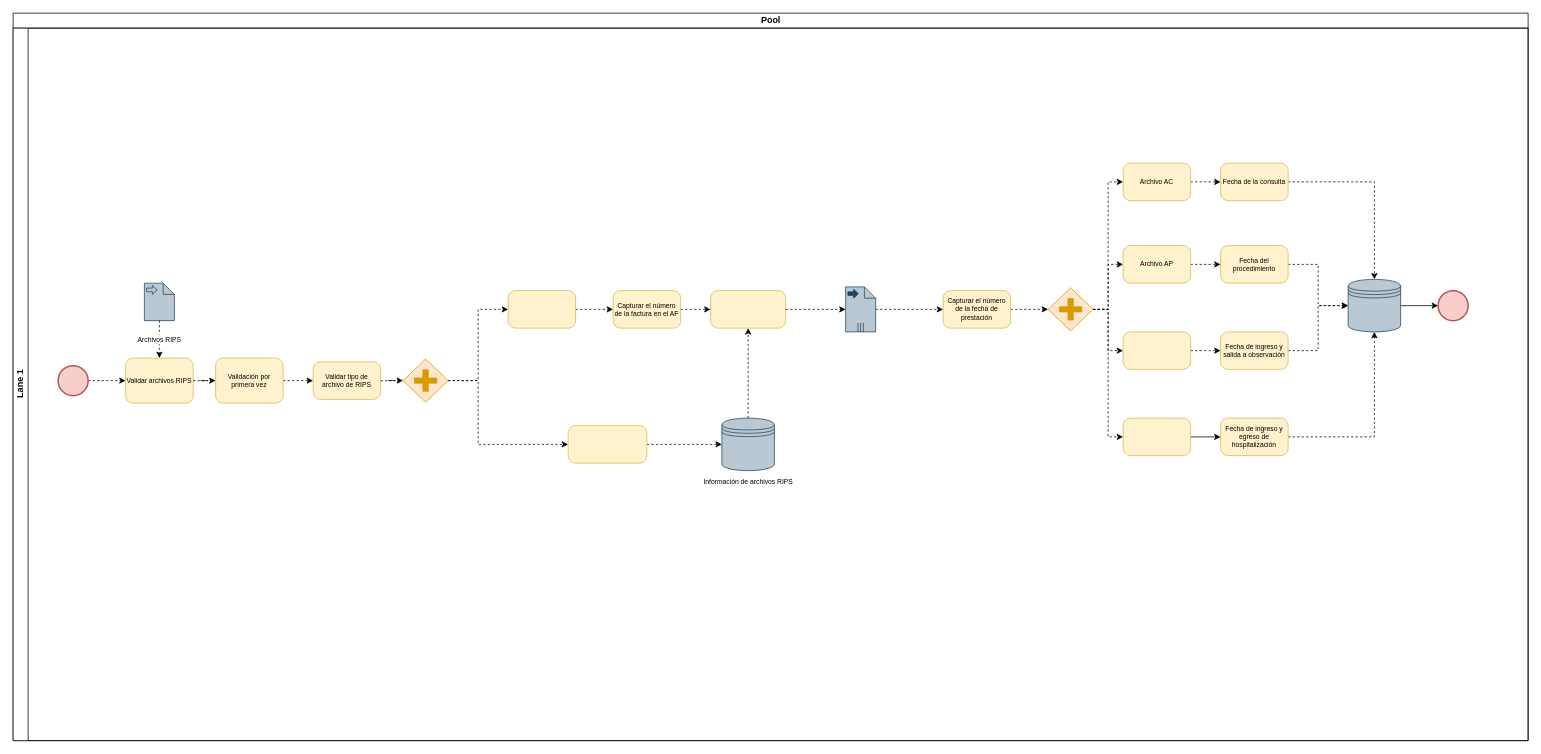
This 1541x754 diagram has some shape labels left out. The shapes that lost their labels are listed below. From the top down, each one's centre as x and y in pixels, then its label:
At point (541, 309): "Archivo tipo AF".
At point (748, 309): "Buscar la factura en los archivos de servicios AC, AP, AU, AH".
At point (860, 309): "Número de factura de los archivos AC, AP, AU, AH".
At point (1374, 305): "Almacenar fechas en base de datos".
At point (1156, 350): "Archivo AU".
At point (607, 444): "Archivo tipo AC,AP,AU,AH".
At point (1156, 436): "Archivo AH".
